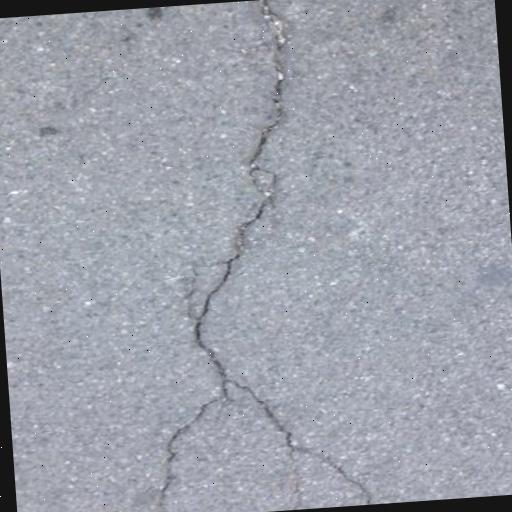spalling: (170, 8, 395, 499), (144, 384, 237, 511)
